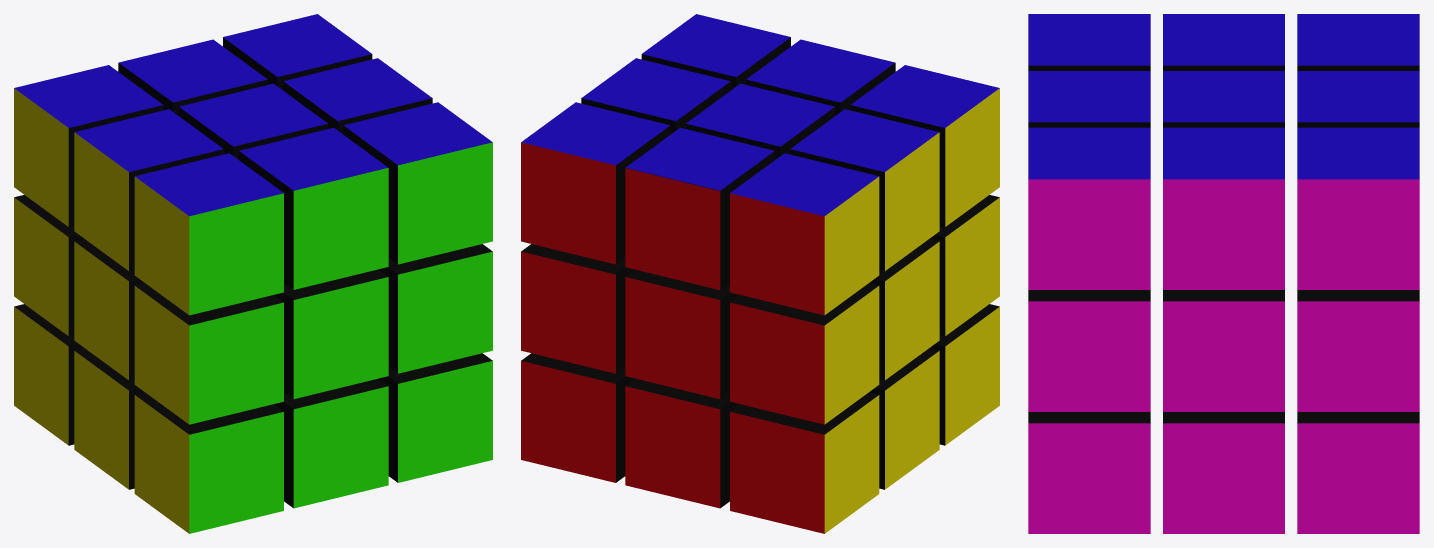
Rendered from rubiks.gltf.
3 renders of one model, left to right at view 1: azimuth 30°, elevation 25°; view 2: azimuth 150°, elevation 25°; view 3: azimuth 270°, elevation 25°, orthographic. The views are drawn at different scales.
Visible parts, largest first — view 1: Cube.060, Cube.030, Cube.067, Cube.014, Cube.087, Cube.047, Cube.025, Cube.005, Cube.033, Cube.080, Cube.085, Cube.029 (+7 smaller); view 2: Cube.025, Cube.020, Cube.024, Cube.049, Cube.027, Cube.047, Cube.060, Cube.032, Cube.019, Cube.038, Cube.023, Cube.029 (+7 smaller); view 3: Cube.027, Cube.087, Cube.016, Cube.038, Cube.019, Cube.080, Cube.085, Cube.035, Cube.040, Cube.049, Cube.060, Cube.014 (+3 smaller).
Part boxes in pixels (x1,y1,x2,y2): Cube.060: (134, 153, 283, 315); Cube.030: (134, 392, 283, 533); Cube.067: (134, 283, 283, 424); Cube.014: (239, 127, 388, 289); Cube.087: (343, 102, 492, 264); Cube.047: (74, 109, 223, 271); Cube.025: (14, 65, 163, 226); Cube.005: (274, 269, 388, 398); Cube.033: (274, 379, 388, 508); Cube.080: (378, 353, 492, 482); Cube.085: (378, 244, 492, 373); Cube.029: (74, 348, 144, 489); Cube.025: (730, 153, 879, 315); Cube.020: (730, 392, 879, 533); Cube.024: (730, 283, 879, 424); Cube.049: (625, 127, 774, 289); Cube.027: (521, 102, 670, 264); Cube.047: (790, 109, 939, 271); Cube.060: (850, 65, 999, 226); Cube.032: (625, 379, 739, 508); Cube.019: (521, 353, 635, 482); Cube.038: (521, 244, 634, 373); Cube.023: (625, 269, 739, 398); Cube.029: (869, 348, 939, 489); Cube.027: (1297, 127, 1419, 289); Cube.087: (1028, 127, 1150, 289); Cube.016: (1163, 127, 1284, 289); Cube.038: (1297, 290, 1419, 411); Cube.019: (1297, 412, 1419, 533); Cube.080: (1028, 412, 1150, 533); Cube.085: (1028, 290, 1150, 411); Cube.035: (1163, 412, 1284, 533); Cube.040: (1163, 290, 1284, 411); Cube.049: (1297, 71, 1419, 127); Cube.060: (1028, 14, 1150, 70); Cube.014: (1028, 71, 1150, 127).
Size of the model in its own units: 2.91 by 2.91 by 2.91.
